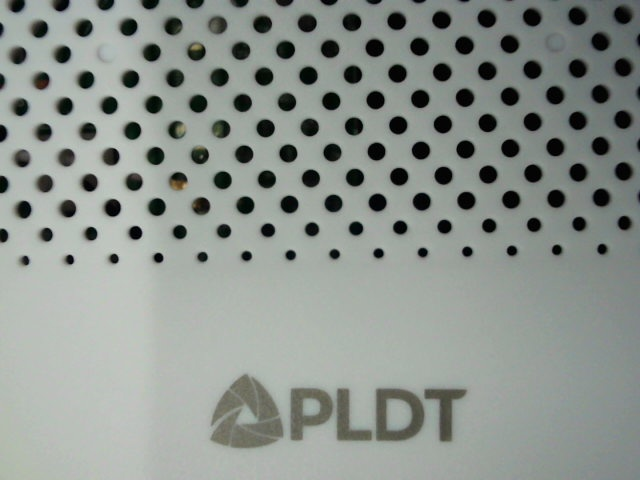BH_PLDT: (190, 353, 479, 467)
